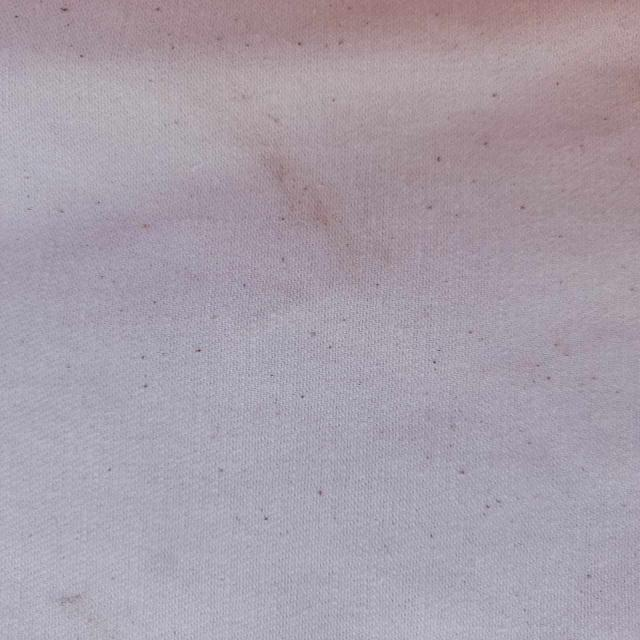taaaches: (186, 84, 386, 334), (42, 582, 98, 620)
